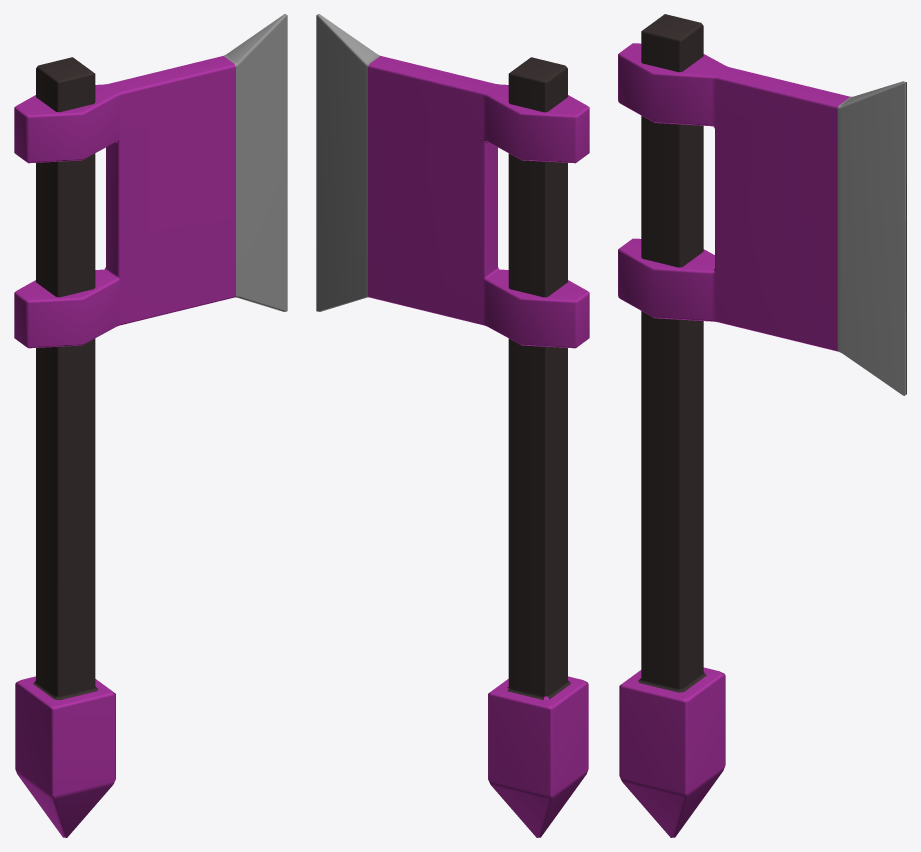
The model's file is axe_4.FBX.
The picture shows the model from 3 angles, left to right: view 1: azimuth 30°, elevation 25°; view 2: azimuth 150°, elevation 25°; view 3: azimuth 330°, elevation 25°; orthographic projection. The views are drawn at different scales.
Visible parts, largest first — view 1: axe_4; view 2: axe_4; view 3: axe_4.
Part boxes in pixels (x1=…): axe_4: x1=14, y1=14, x2=287, y2=837; axe_4: x1=316, y1=14, x2=589, y2=837; axe_4: x1=618, y1=14, x2=906, y2=837.
Bounding box in the file's own units: 1.12 × 3.09 × 0.2778.
